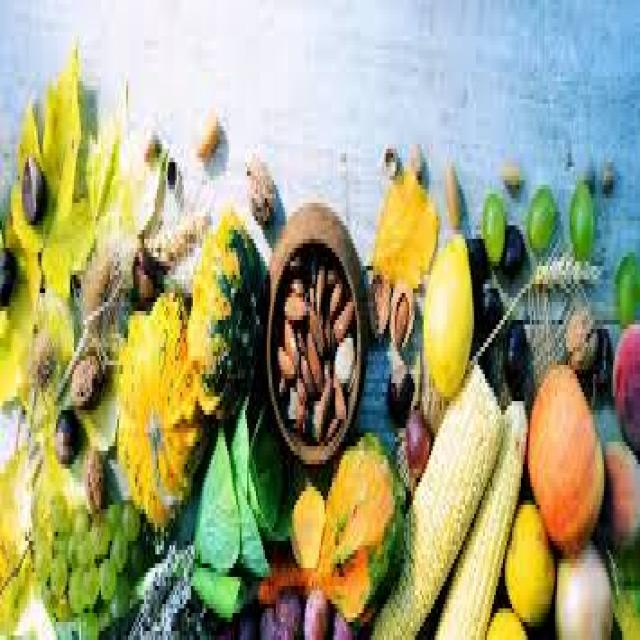organic waste: (368, 360, 501, 636), (114, 284, 207, 532), (188, 392, 292, 613), (8, 45, 98, 298), (433, 397, 526, 636), (0, 194, 74, 428), (314, 428, 402, 622), (184, 207, 263, 419), (525, 360, 602, 554), (0, 414, 65, 636), (474, 243, 600, 356), (422, 230, 470, 396), (372, 158, 436, 279), (128, 536, 200, 636), (83, 72, 128, 225), (503, 496, 553, 622), (554, 536, 610, 636), (597, 536, 638, 636), (610, 316, 638, 450), (602, 437, 638, 541), (86, 234, 125, 329), (148, 207, 209, 266), (256, 554, 314, 608), (288, 478, 324, 559), (68, 342, 105, 406), (564, 298, 595, 370), (244, 149, 272, 225), (27, 324, 56, 396), (130, 244, 162, 306), (568, 176, 591, 261), (526, 180, 554, 248), (388, 270, 411, 352), (615, 248, 638, 324), (52, 406, 80, 468), (474, 279, 503, 338), (503, 316, 526, 388), (366, 266, 389, 338), (22, 149, 45, 221), (386, 361, 414, 419), (301, 582, 330, 636), (404, 406, 429, 468), (483, 189, 503, 266), (272, 582, 299, 636), (485, 600, 525, 636), (592, 320, 610, 392), (444, 158, 462, 230), (499, 225, 523, 275), (332, 329, 353, 383), (29, 528, 50, 582), (85, 442, 101, 509), (63, 563, 83, 613), (467, 230, 487, 279), (298, 352, 318, 401), (27, 478, 45, 532), (195, 112, 216, 158), (303, 329, 319, 388), (230, 604, 260, 635), (110, 568, 133, 608), (0, 243, 14, 306), (328, 600, 352, 636), (306, 302, 322, 356), (43, 586, 67, 622), (258, 604, 285, 635), (119, 496, 137, 536), (98, 550, 114, 595), (70, 496, 90, 532), (48, 492, 68, 528), (282, 316, 298, 360), (83, 554, 97, 604), (279, 288, 303, 316), (597, 158, 618, 189), (330, 378, 348, 414), (47, 550, 63, 590), (328, 266, 341, 315), (310, 397, 328, 432), (274, 343, 294, 374), (294, 378, 305, 432), (124, 536, 142, 568), (63, 523, 81, 554), (381, 144, 398, 176), (334, 298, 349, 334), (108, 528, 123, 564), (90, 514, 105, 550), (78, 527, 94, 559), (411, 135, 422, 180), (501, 158, 519, 185), (106, 496, 119, 532), (50, 523, 66, 550), (322, 252, 333, 284), (314, 261, 321, 311), (166, 158, 177, 185), (323, 365, 330, 406), (290, 270, 300, 298)
